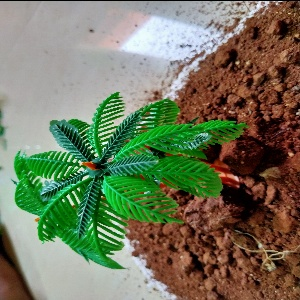plant: (9, 94, 203, 249)
